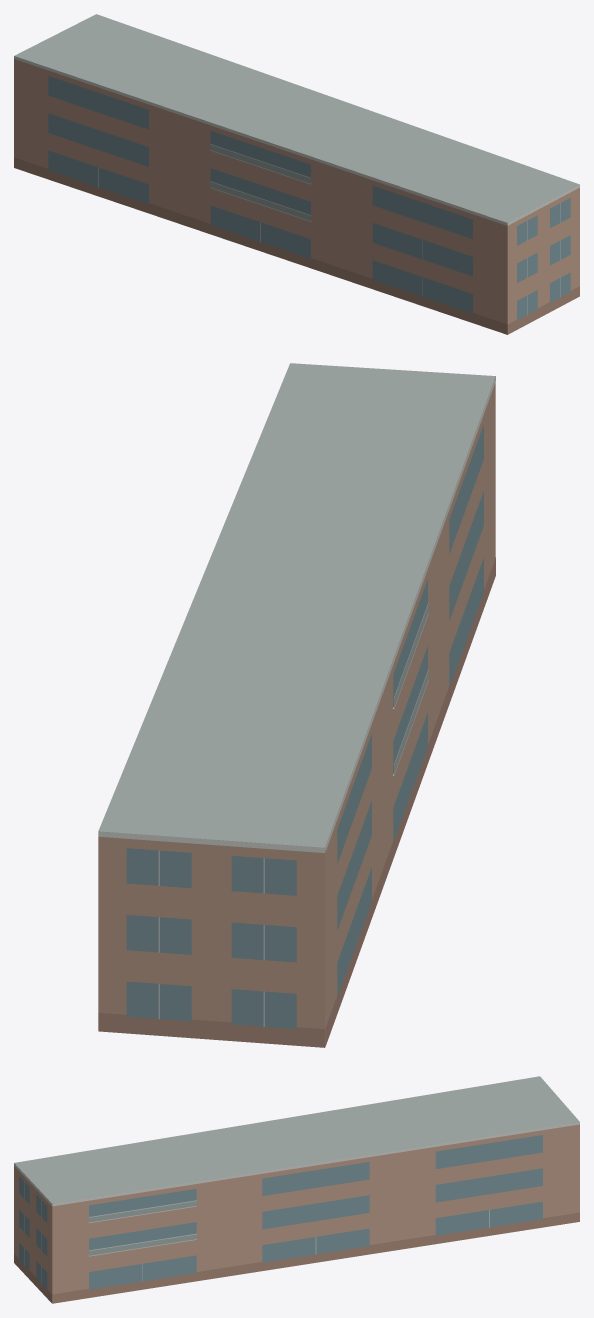
The model's file is survey-upis-32935602.glb.
The picture shows the model from 3 angles, top to bottom: view 1: azimuth 30°, elevation 25°; view 2: azimuth 150°, elevation 25°; view 3: azimuth 270°, elevation 25°; orthographic projection. The views are drawn at different scales.
Parts seen in each view (by area): view 1: survey-upis-32935602.tmp; view 2: survey-upis-32935602.tmp; view 3: survey-upis-32935602.tmp.
Boxes of the visible parts, left/top/right/bottom form: survey-upis-32935602.tmp: left=14, top=14, right=579, bottom=334; survey-upis-32935602.tmp: left=98, top=363, right=495, bottom=1047; survey-upis-32935602.tmp: left=14, top=1076, right=579, bottom=1303.
Size of the model in its own units: 25.04 by 9.15 by 46.94.
